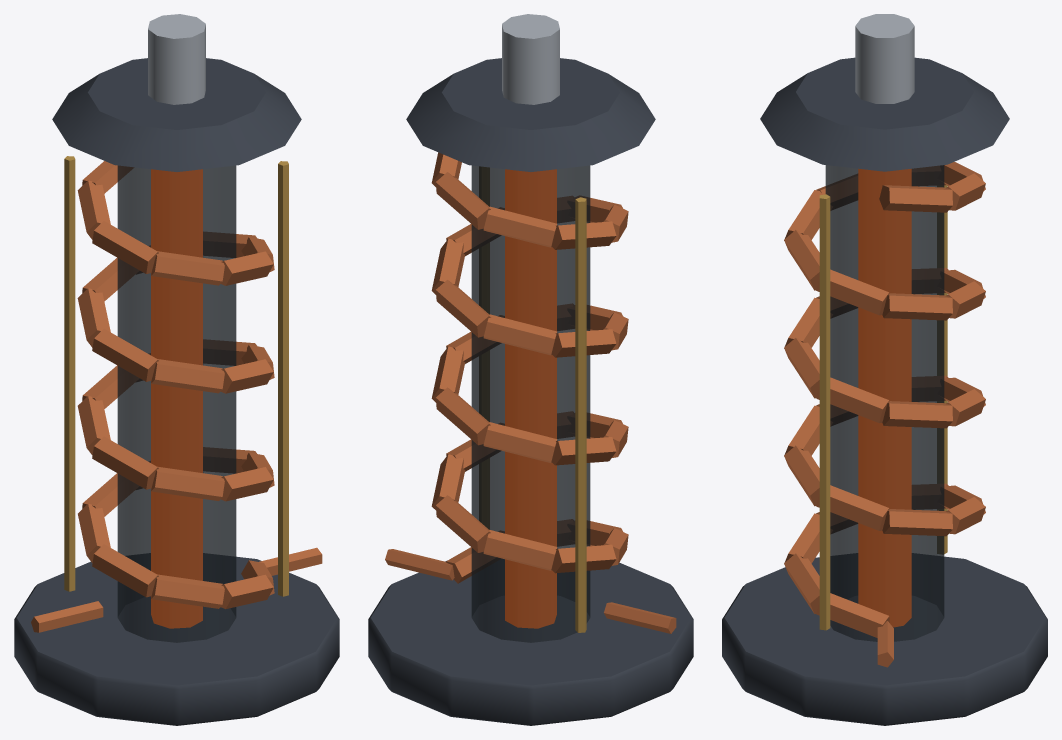
File: coil_helical_plasma_coil.glb
The picture shows the model from 3 angles, left to right: view 1: azimuth 30°, elevation 25°; view 2: azimuth 150°, elevation 25°; view 3: azimuth 270°, elevation 25°; orthographic projection.
Parts seen in each view (by area): view 1: coil_helical_plasma_coil; view 2: coil_helical_plasma_coil; view 3: coil_helical_plasma_coil.
Part boxes in pixels (<box>): coil_helical_plasma_coil: <box>14,14,339,725</box>; coil_helical_plasma_coil: <box>368,14,693,725</box>; coil_helical_plasma_coil: <box>722,14,1047,725</box>.
Bounding box in the file's own units: 1.1 × 2.35 × 1.09.
